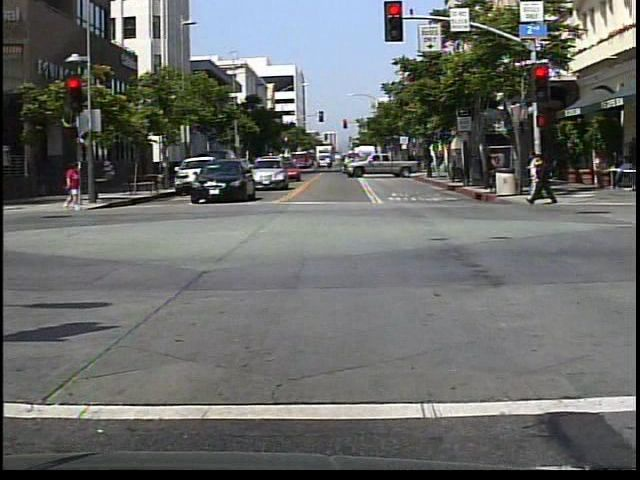person: (528, 151, 559, 209), (525, 145, 546, 201), (609, 149, 634, 193), (63, 161, 83, 213)
